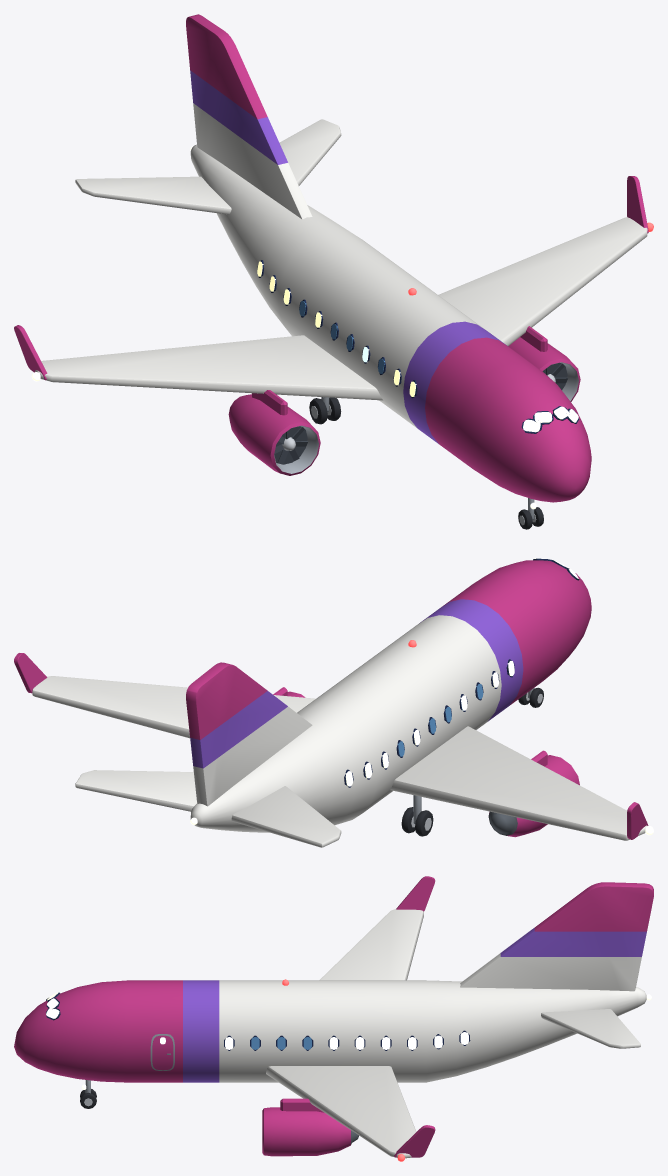
Rendered from aviao_passageiros_magenta.glb.
3 renders of one model, top to bottom at view 1: azimuth 30°, elevation 25°; view 2: azimuth 150°, elevation 25°; view 3: azimuth 270°, elevation 25°, orthographic. The views are drawn at different scales.
Parts seen in each view (by area): view 1: aviao_passageiros_magenta; view 2: aviao_passageiros_magenta, roda_dir; view 3: aviao_passageiros_magenta, porta_cabine.
Part boxes in pixels (bbox=[...]): aviao_passageiros_magenta: bbox=[14, 14, 653, 519]; aviao_passageiros_magenta: bbox=[14, 558, 653, 847]; roda_dir: bbox=[401, 807, 433, 836]; aviao_passageiros_magenta: bbox=[14, 876, 653, 1161]; porta_cabine: bbox=[152, 1035, 173, 1070].
Bounding box in the file's own units: 29.63 × 12.18 × 31.81.
Materials: 6 (1 with a texture image).
